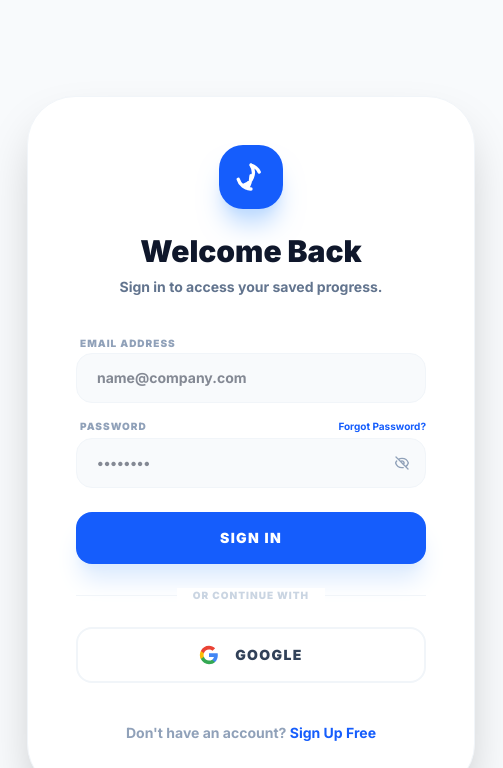
Test: Login › should toggle back to sign-in mode
The image size is (503, 768).
Click the button "Sign Up Free": (333, 733) top-left (290, 723), bottom-right (376, 743)
(page scrolled)
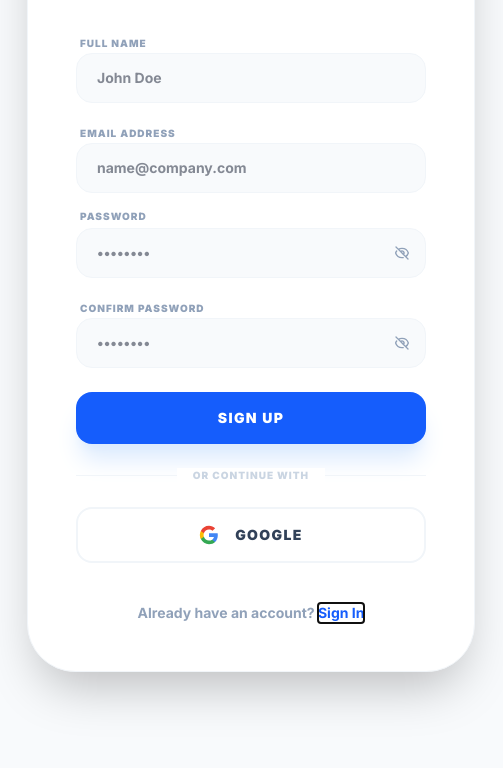
Click the button "Sign In": (341, 613) top-left (318, 603), bottom-right (364, 623)
(page scrolled)
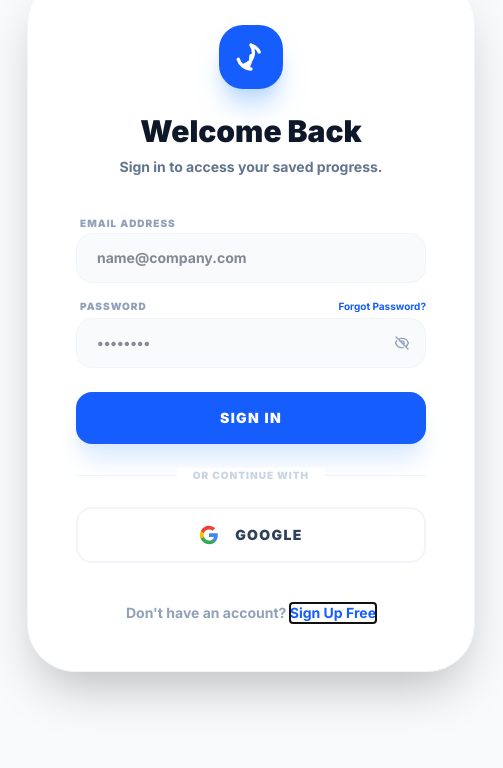
Result: the heading "Welcome Back" is shown at top-left (140, 113), bottom-right (362, 149)
